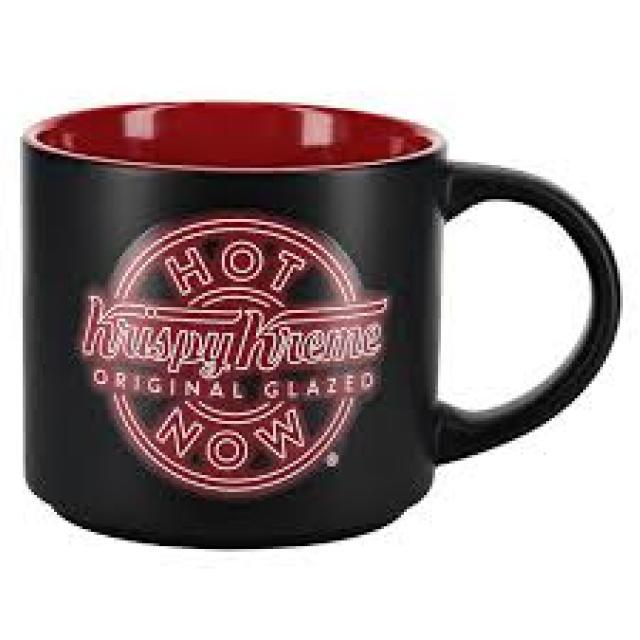taza: (21, 98, 624, 552)
